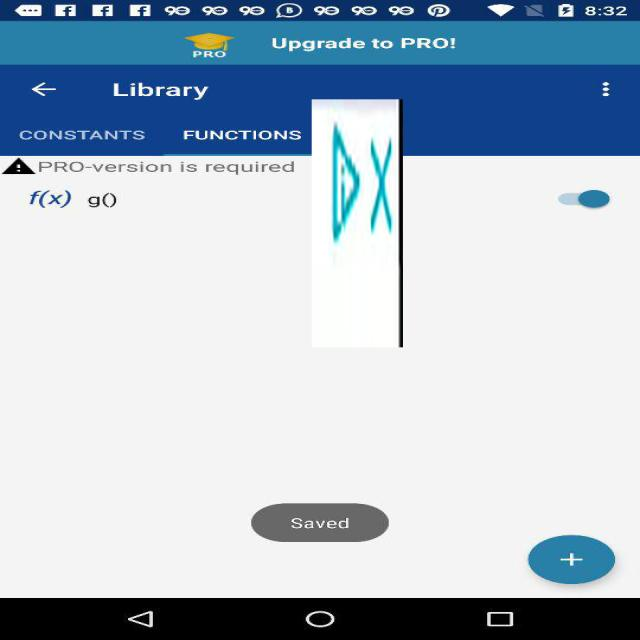sneaking: (312, 100, 403, 348)
